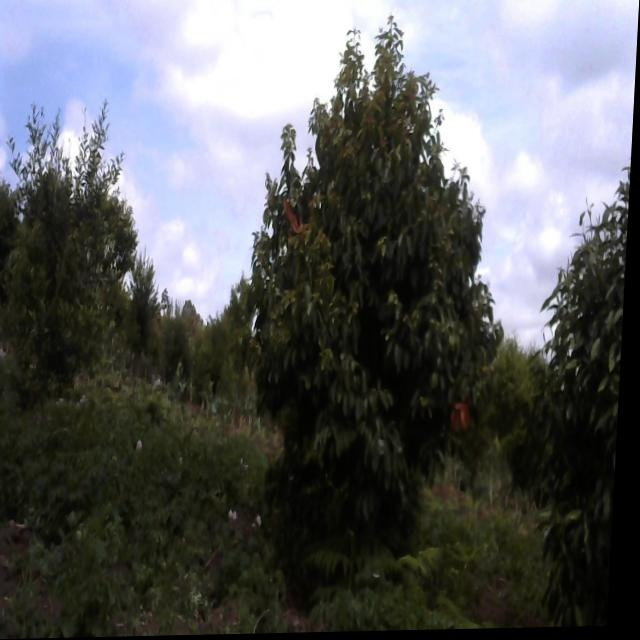Hass Avocado: (227, 16, 522, 613)
